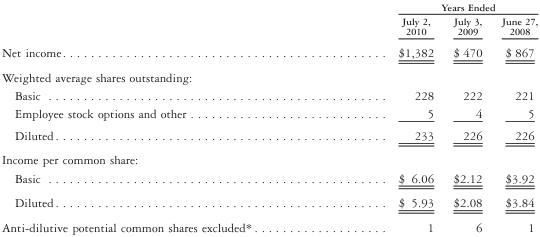table: (0, 0, 537, 233)
table column: (0, 0, 327, 233), (327, 0, 442, 233), (442, 0, 491, 233), (491, 0, 537, 233)
table column header: (0, 0, 537, 41)
table projected row header: (0, 64, 537, 86), (0, 147, 537, 168)
table row: (0, 13, 537, 41), (0, 190, 537, 214), (0, 41, 537, 64), (0, 124, 537, 147), (0, 64, 537, 86), (0, 168, 537, 190), (0, 147, 537, 168), (0, 104, 537, 124), (0, 214, 537, 233), (0, 86, 537, 104), (0, 0, 537, 13)
table spanning cell: (327, 0, 537, 13)
